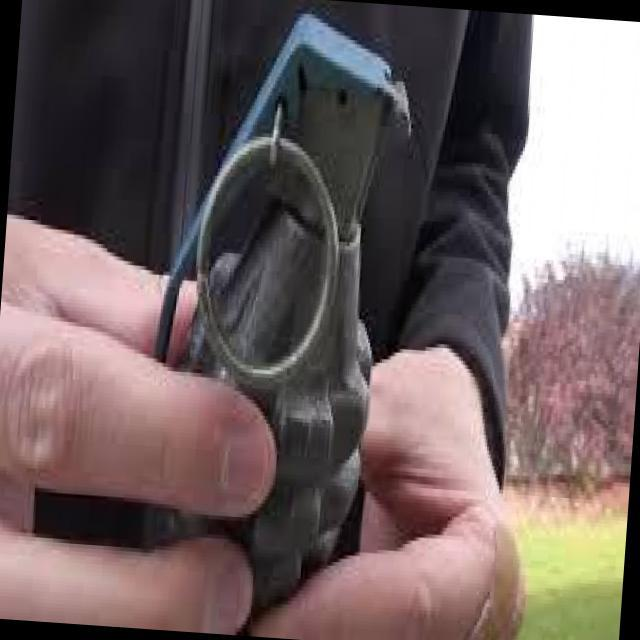grenade: (134, 16, 423, 604)
